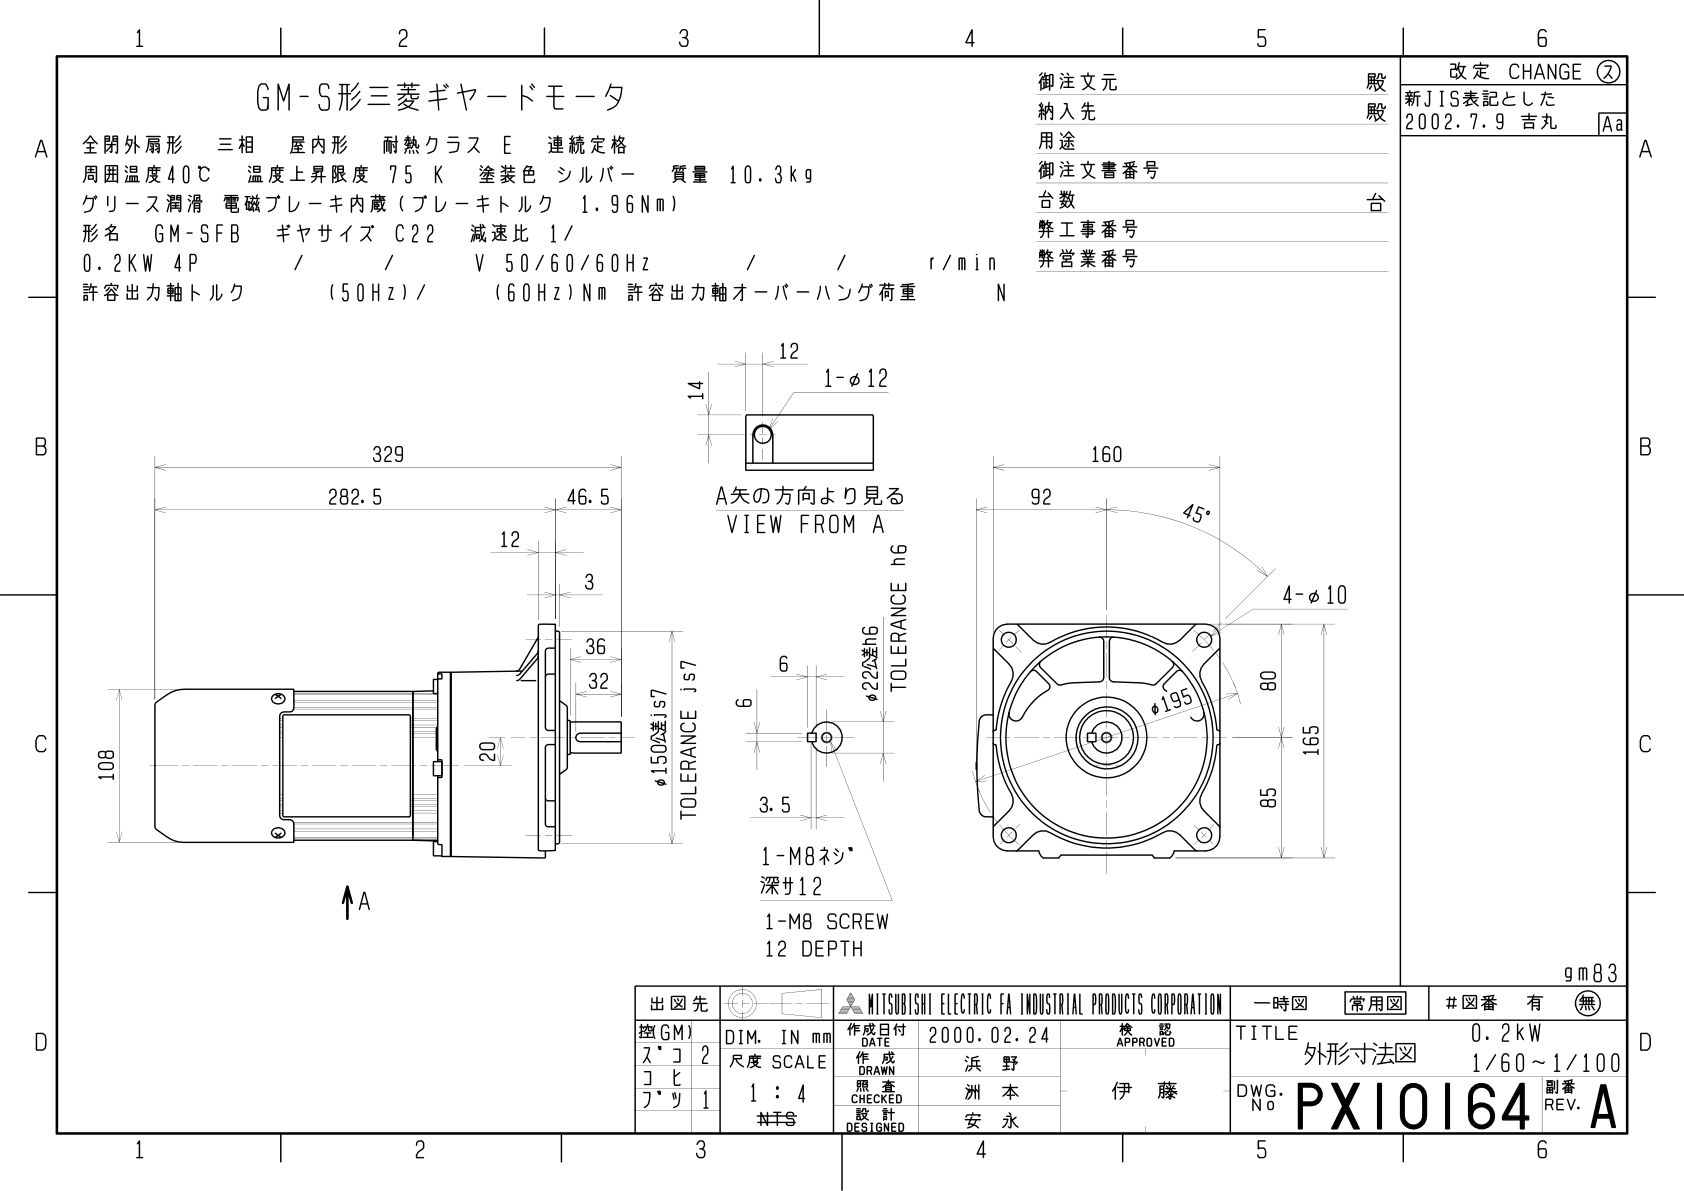GM_S_屋内＿三相_フランジ: (81, 327, 1373, 965)
